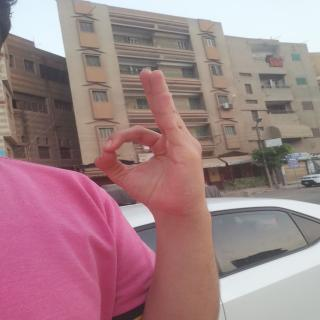Space: (94, 64, 214, 211)
